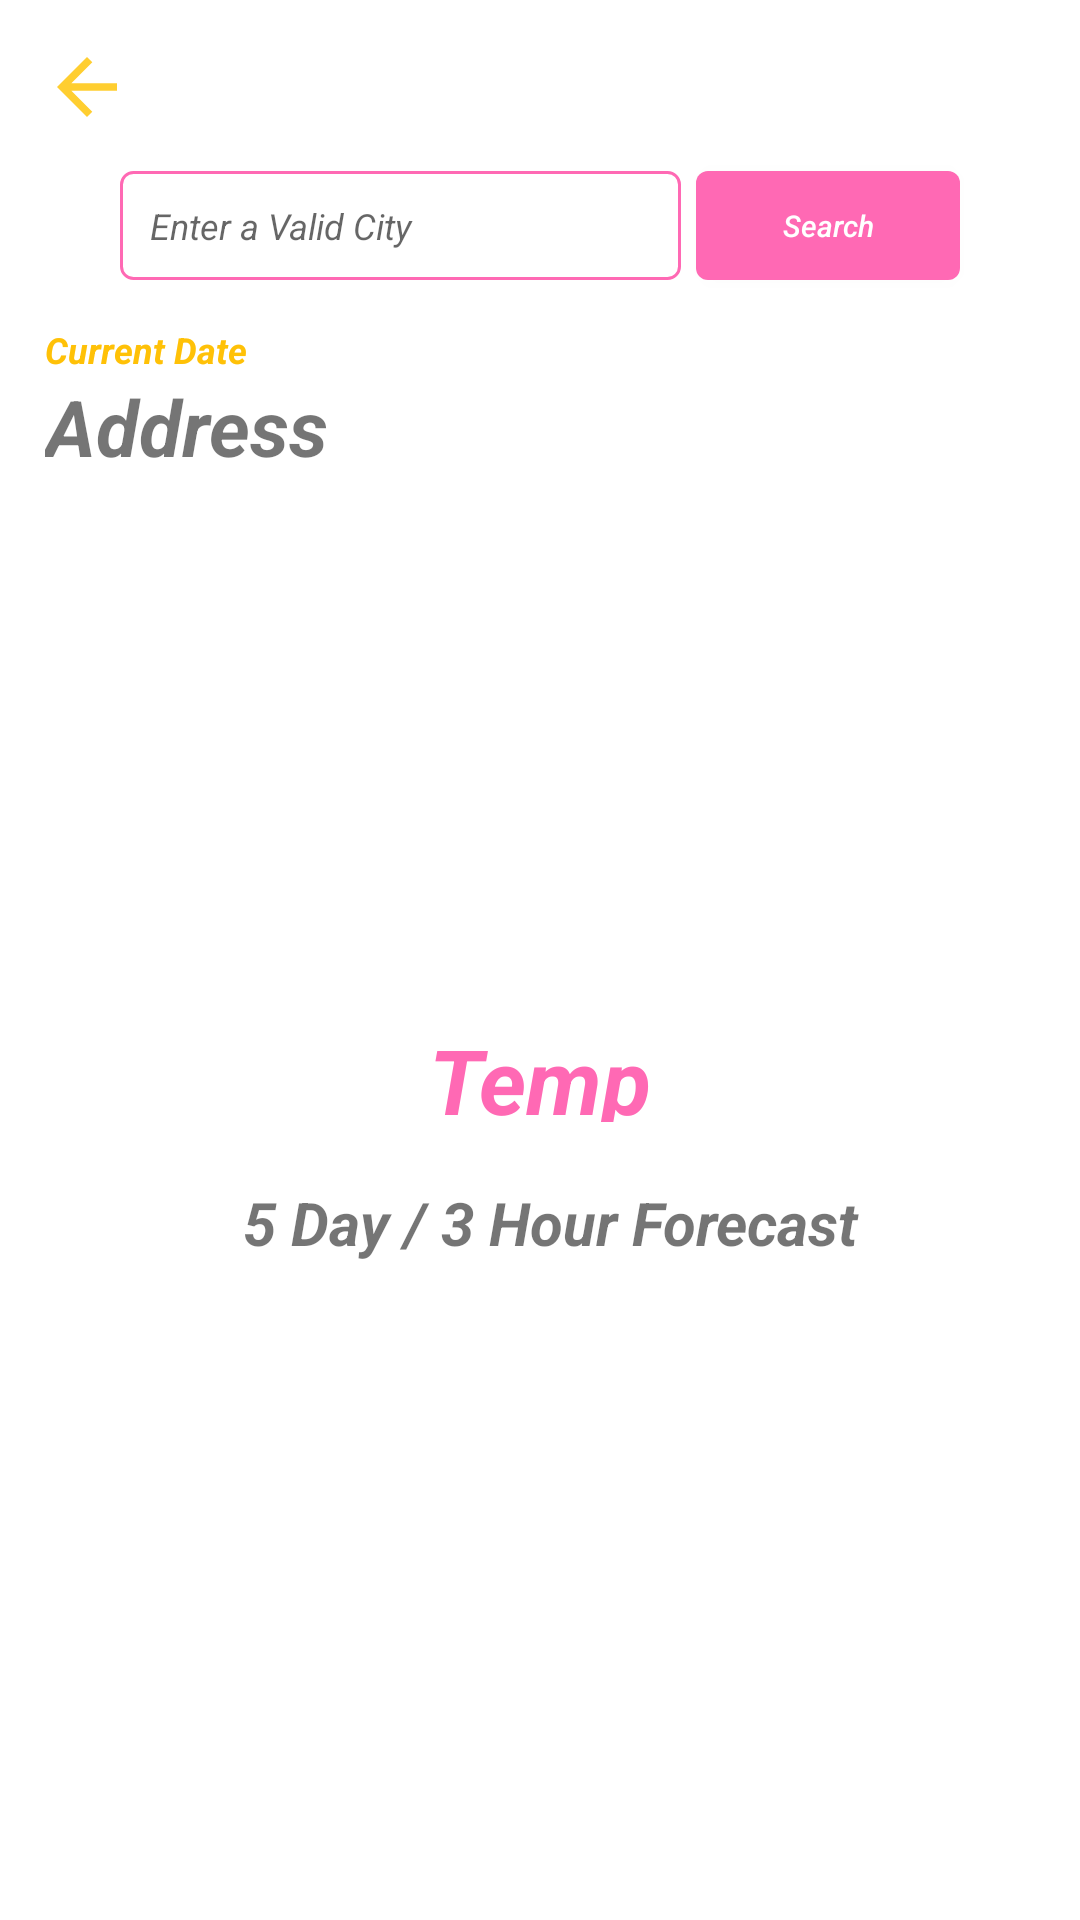

Screen size 1080px×1920px. Icon name, then its center in pixels as (x,y):
arrow back: (87,87)
